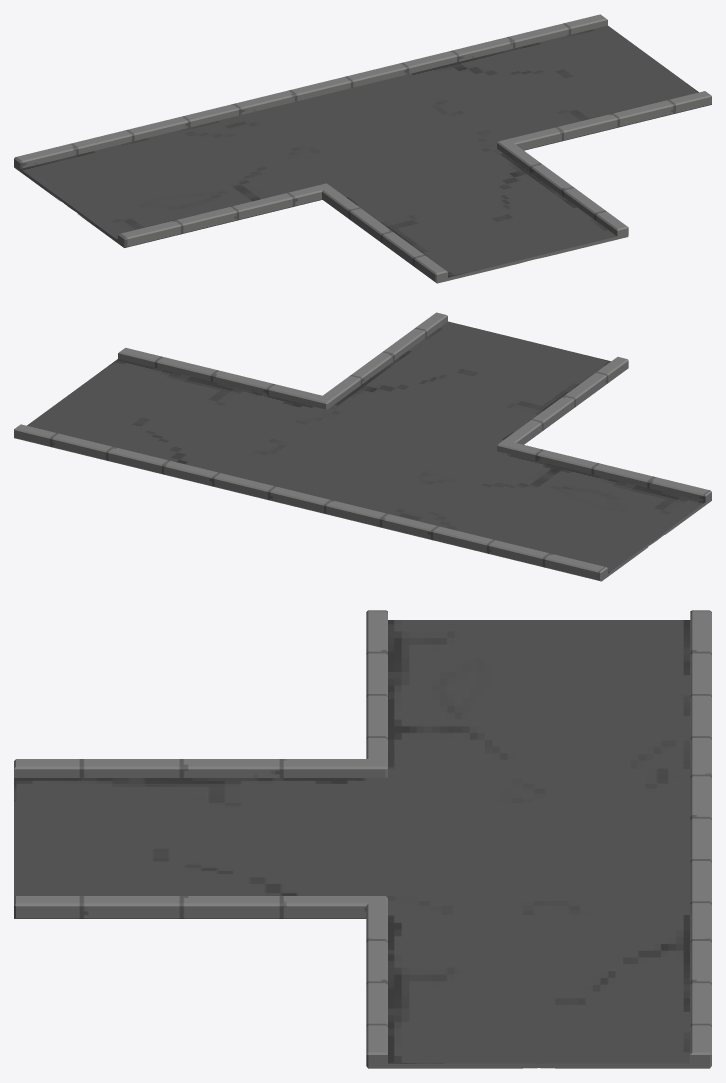
File: doroga++.obj
3 renders of one model, top to bottom at view 1: azimuth 30°, elevation 25°; view 2: azimuth 150°, elevation 25°; view 3: azimuth 270°, elevation 25°, orthographic. The views are drawn at different scales.
Parts seen in each view (by area): view 1: Cube.001; view 2: Cube.001; view 3: Cube.001.
Boxes of the visible parts, x1=… form: Cube.001: x1=14, y1=14, x2=711, y2=283; Cube.001: x1=14, y1=312, x2=711, y2=581; Cube.001: x1=14, y1=610, x2=711, y2=1068.
Size of the model in its own units: 31.45 by 0.5119 by 20.91.
Materials: 1 (1 with a texture image).
